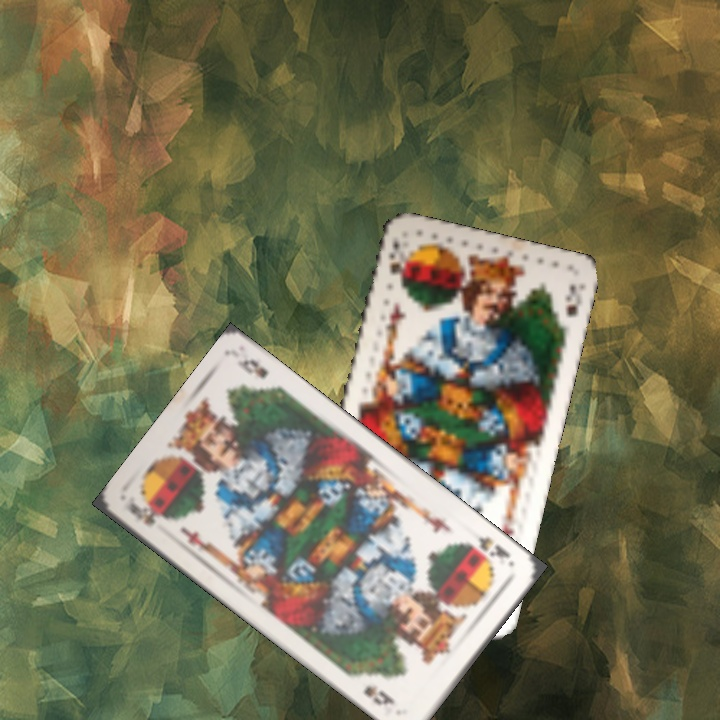SK: (462, 532, 517, 569), (123, 498, 163, 529), (385, 235, 404, 276)
